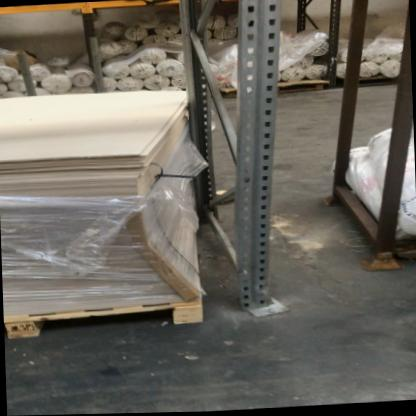vertical_damage: (234, 280, 295, 324)
